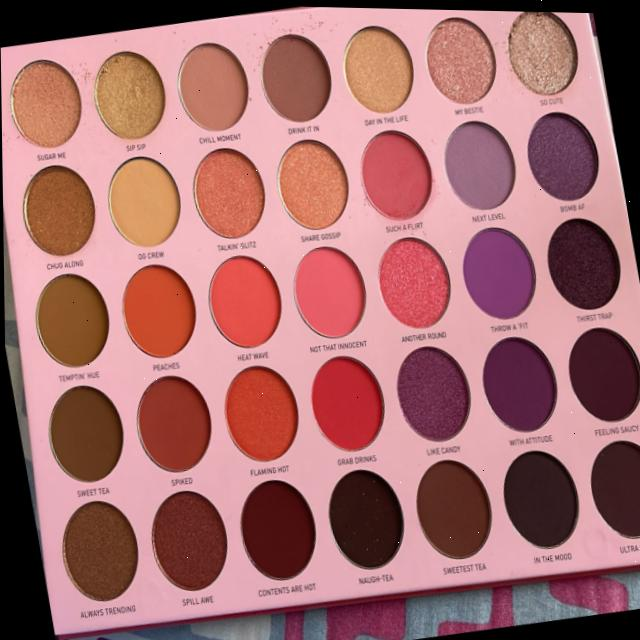eye shade: (229, 470, 325, 589), (55, 489, 145, 613), (320, 455, 410, 576), (141, 480, 233, 593), (405, 445, 495, 559), (125, 367, 220, 474), (38, 377, 132, 484), (454, 214, 547, 322), (493, 446, 583, 557), (109, 259, 203, 365), (199, 243, 291, 348), (303, 342, 389, 452), (476, 324, 562, 434), (86, 42, 176, 147), (97, 150, 186, 254), (351, 118, 439, 223), (370, 225, 458, 328), (253, 22, 340, 126), (335, 12, 423, 114), (184, 138, 271, 241), (1, 53, 91, 152), (538, 213, 629, 310), (289, 237, 374, 340), (391, 341, 476, 444), (15, 159, 104, 257), (520, 104, 603, 207), (416, 7, 502, 106), (270, 129, 355, 229), (219, 360, 303, 461), (563, 319, 640, 428), (172, 36, 254, 134), (29, 275, 115, 368), (441, 110, 518, 210), (504, 9, 583, 98), (584, 424, 640, 540)
